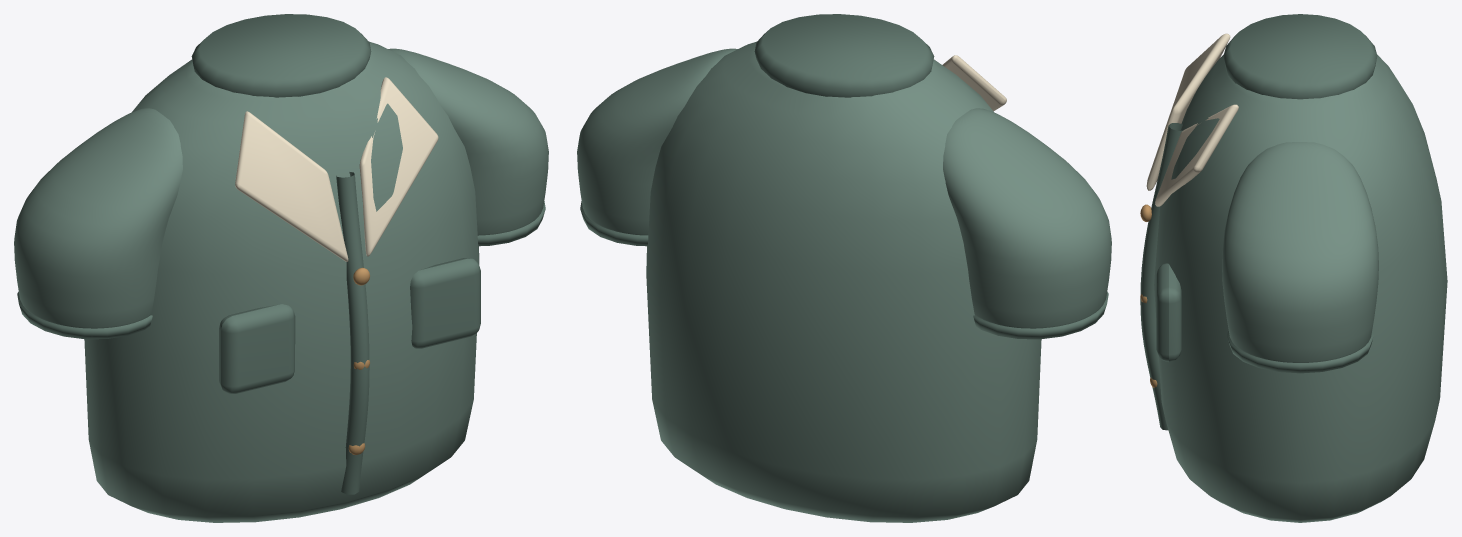
Rendered from vest.glb.
The picture shows the model from 3 angles, left to right: view 1: azimuth 30°, elevation 25°; view 2: azimuth 150°, elevation 25°; view 3: azimuth 270°, elevation 25°; orthographic projection. The views are drawn at different scales.
Visible parts, largest first — view 1: garmentBody, sleeveClothL, sleeveClothR, collar, lapel-1, pocket-1, placket, pocket1, lapel1, cuffL, cuffR; view 2: garmentBody, sleeveClothL, sleeveClothR, collar, cuffL, lapel-1, cuffR; view 3: garmentBody, sleeveClothR, collar, placket, pocket1, lapel-1, lapel1, cuffR.
Part boxes in pixels (<box>): garmentBody: <box>84,41,479,522</box>; sleeveClothL: <box>14,108,182,328</box>; sleeveClothR: <box>388,48,548,235</box>; collar: <box>191,14,371,97</box>; lapel-1: <box>235,111,348,261</box>; pocket-1: <box>219,304,295,393</box>; placket: <box>336,172,369,494</box>; pocket1: <box>410,258,480,348</box>; lapel1: <box>359,77,438,256</box>; cuffL: <box>17,292,152,339</box>; cuffR: <box>477,201,545,246</box>; garmentBody: <box>646,41,1041,522</box>; sleeveClothL: <box>943,108,1111,328</box>; sleeveClothR: <box>577,48,737,235</box>; collar: <box>754,14,934,97</box>; cuffL: <box>973,292,1108,339</box>; lapel-1: <box>942,55,1006,111</box>; cuffR: <box>580,201,648,246</box>; garmentBody: <box>1154,54,1447,522</box>; sleeveClothR: <box>1222,142,1378,362</box>; collar: <box>1223,14,1377,99</box>; placket: <box>1140,123,1182,430</box>; pocket1: <box>1156,263,1181,361</box>; lapel-1: <box>1146,33,1230,190</box>; lapel1: <box>1155,104,1238,206</box>; cuffR: <box>1227,330,1373,373</box>.
Bounding box in the file's own units: 0.8328 × 0.652 × 0.451.
